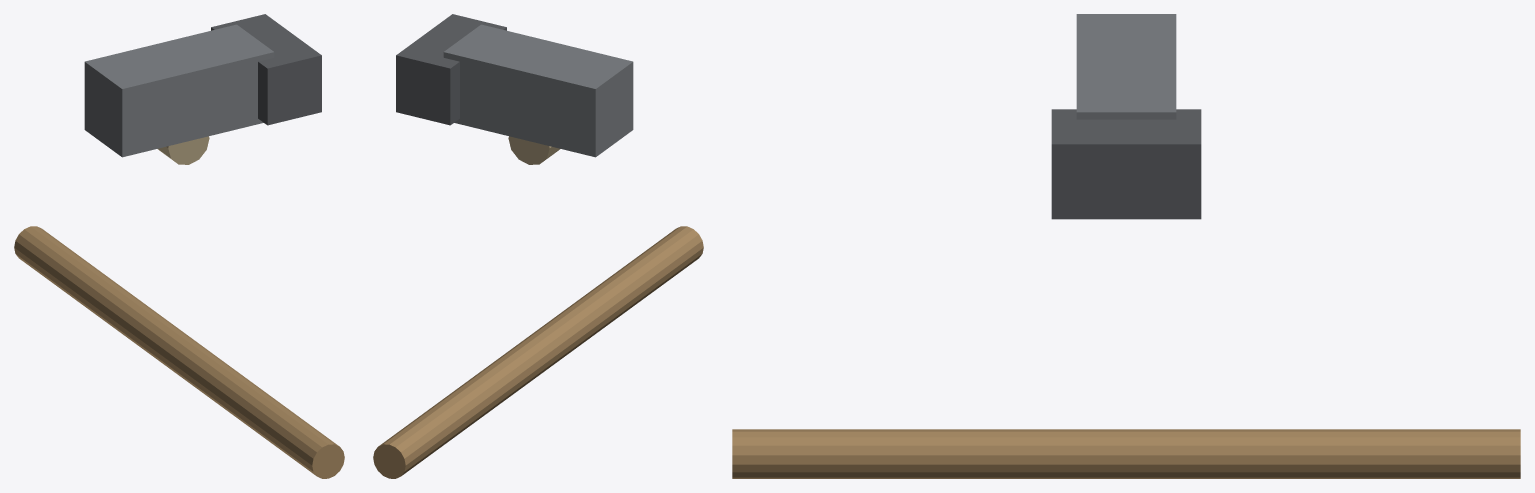
The model's file is building_hammer.glb.
3 renders of one model, left to right at view 1: azimuth 30°, elevation 25°; view 2: azimuth 150°, elevation 25°; view 3: azimuth 270°, elevation 25°, orthographic. The views are drawn at different scales.
Visible parts, largest first — view 1: geometry_0; view 2: geometry_0; view 3: geometry_0.
Part boxes in pixels (bbox=[...]): geometry_0: bbox=[14, 14, 344, 478]; geometry_0: bbox=[373, 14, 703, 478]; geometry_0: bbox=[732, 14, 1520, 478].
Bounding box in the file's own units: 0.35 × 0.55 × 0.95.
